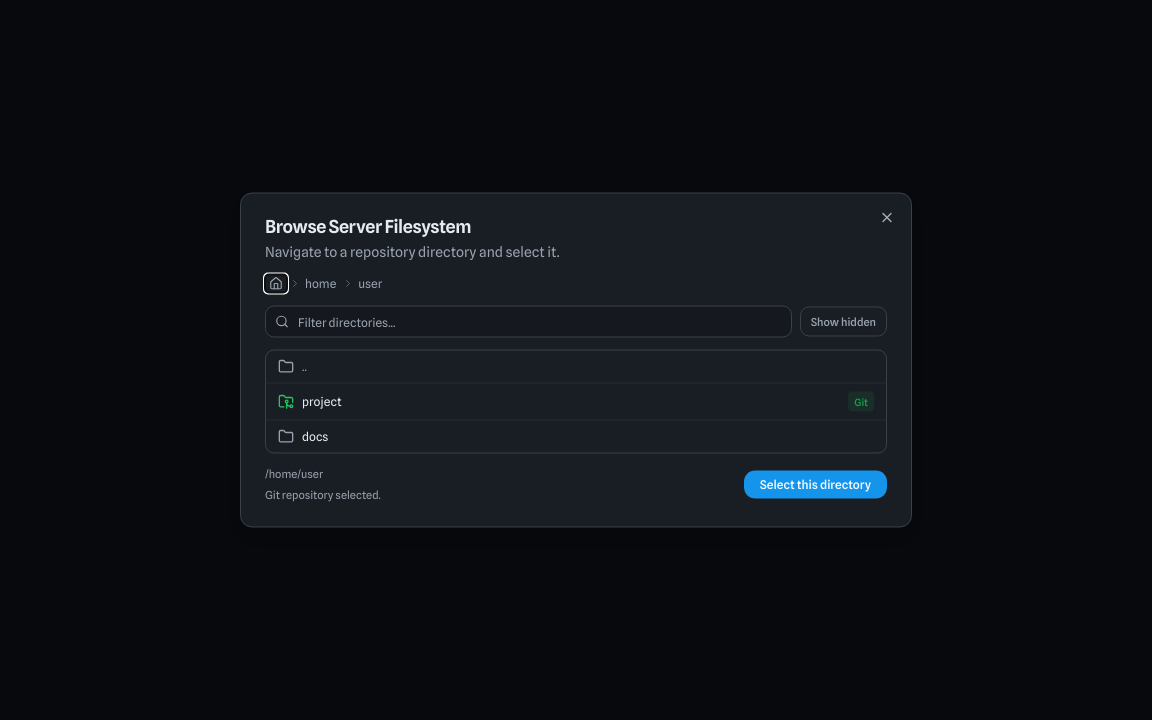
FileBrowserModal › updates recent paths immediately after selecting a directory
Click the button "Select this directory" at [815, 484], box top-left (744, 470), bottom-right (887, 498)
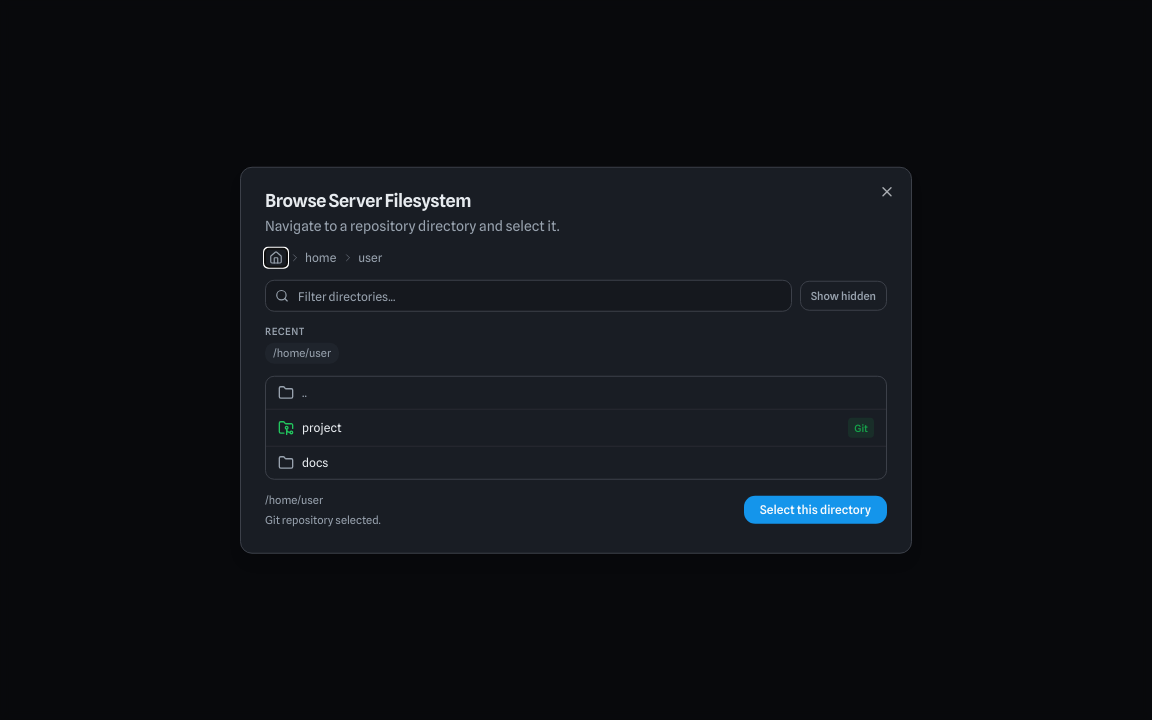
Check: the button titled "/home/user" is shown, box top-left (265, 343), bottom-right (339, 363)
